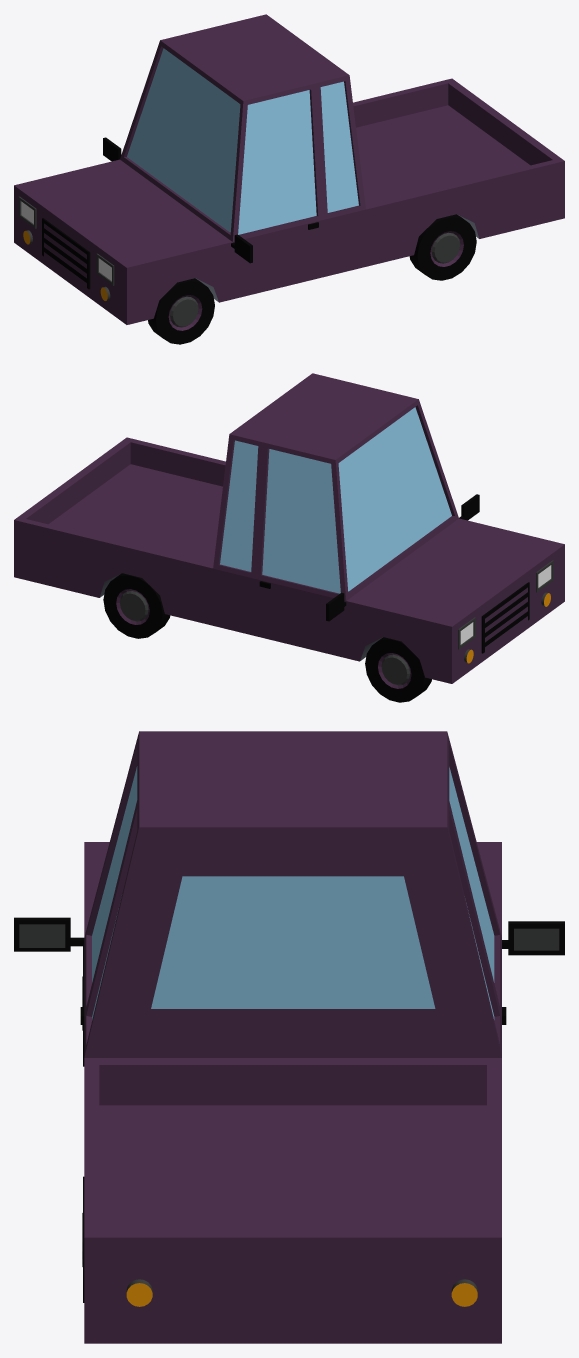
The model's file is car5B.FBX.
3 renders of one model, top to bottom at view 1: azimuth 30°, elevation 25°; view 2: azimuth 150°, elevation 25°; view 3: azimuth 270°, elevation 25°, orthographic. The views are drawn at different scales.
Visible parts, largest first — view 1: car5B; view 2: car5B; view 3: car5B.
Boxes of the visible parts, x1,y1,x2,y2 form: car5B: (14, 14, 564, 344); car5B: (14, 373, 564, 702); car5B: (14, 731, 564, 1343).
Bounding box in the file's own units: 11.38 × 5.22 × 6.6.
